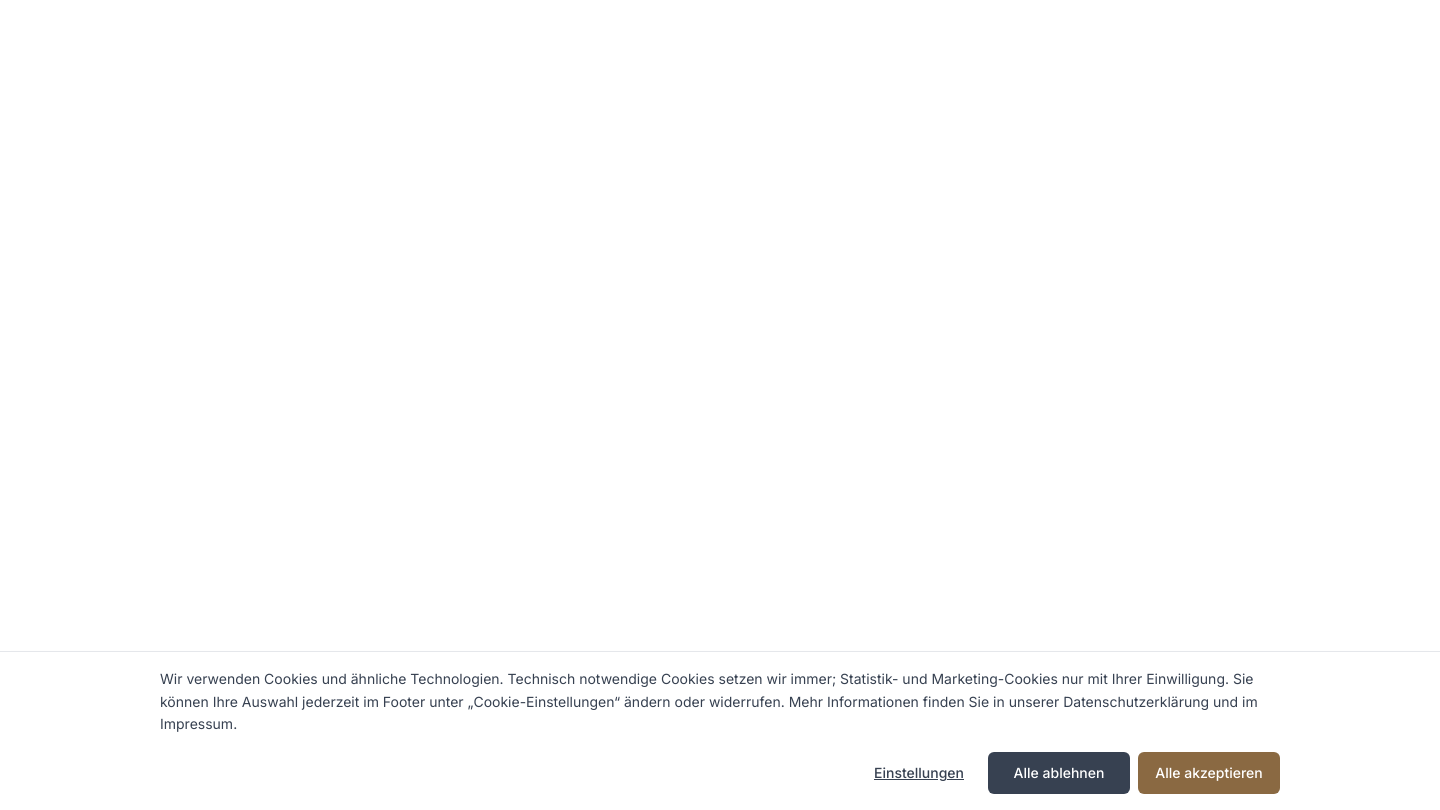
Test: CookieConsent › startet mit deaktivierten Kategorien — kein pre-ticked Consent
Click the button "Einstellungen" at (919, 773), box [858, 752, 980, 794]
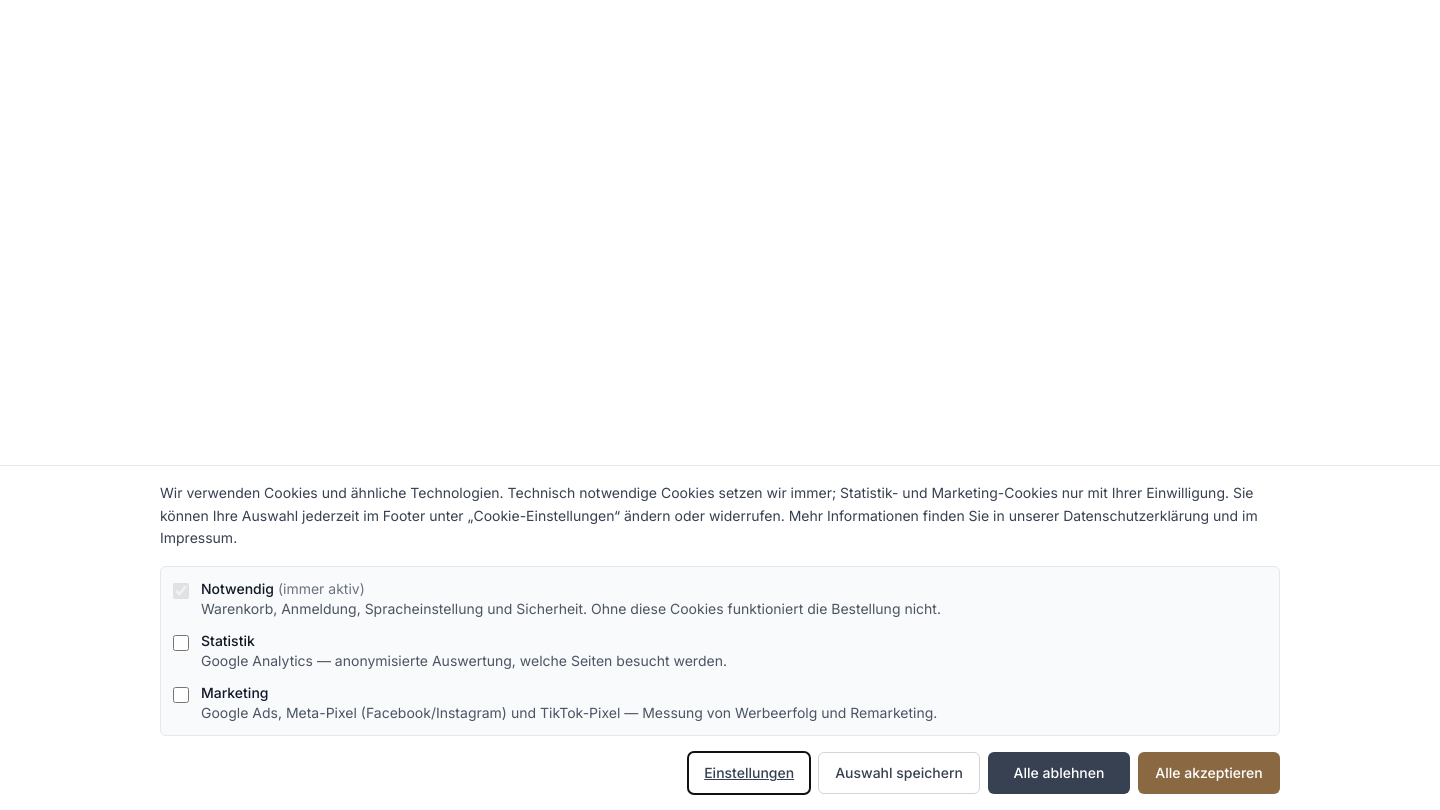
expect the checkbox labelled "Statistik" is not checked: met, box [173, 635, 189, 651]
expect the checkbox labelled "Marketing" is not checked: met, box [173, 687, 189, 703]
expect the checkbox labelled "Notwendig" is disabled: met, box [173, 583, 189, 599]
